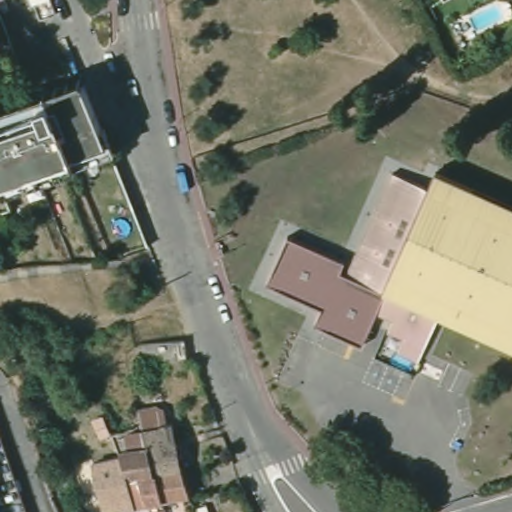pool: (463, 3, 512, 31), (108, 220, 136, 239)
